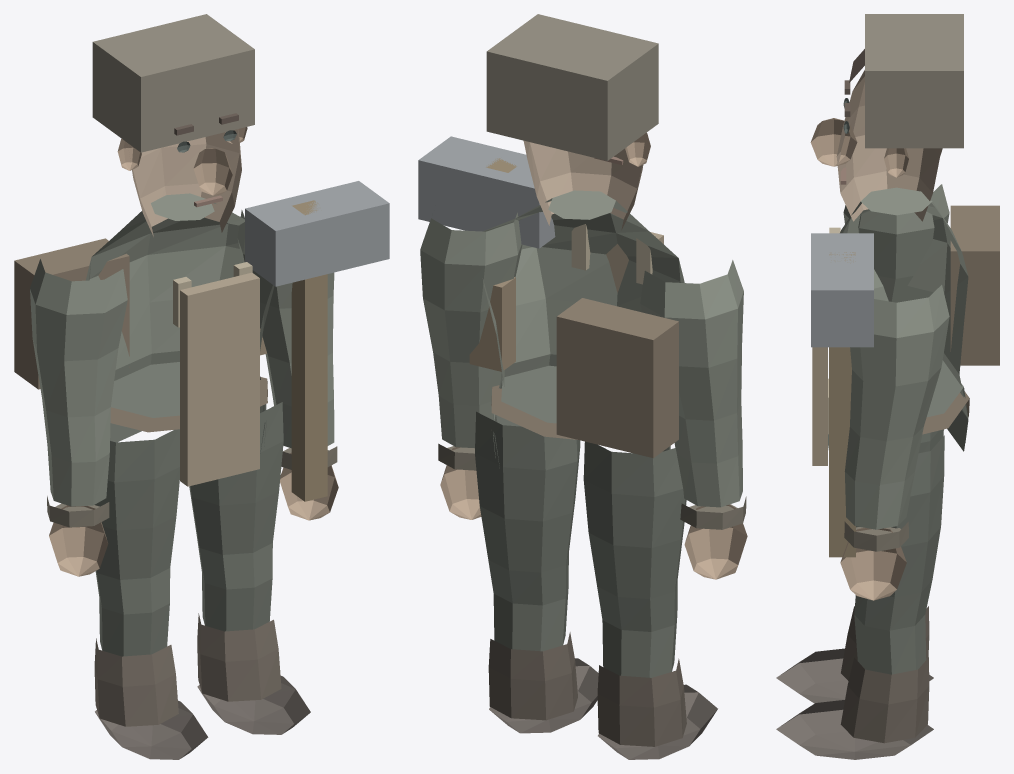
File: medieval_builder_1000_2.glb
The picture shows the model from 3 angles, left to right: view 1: azimuth 30°, elevation 25°; view 2: azimuth 150°, elevation 25°; view 3: azimuth 270°, elevation 25°; orthographic projection. The views are drawn at different scales.
Parts seen in each view (by area): view 1: head_10, leftArm_0, body_7, leftLeg_0, body_0, rightLeg_0, rightArm_4, rightArm_3, rightLeg_1, leftLeg_1, head_0, rightArm_0 (+9 smaller); view 2: head_10, leftLeg_0, rightLeg_0, body_8, leftArm_0, body_0, rightArm_0, rightArm_4, leftLeg_1, rightLeg_1, head_0, body_9 (+12 smaller); view 3: rightArm_0, head_10, rightLeg_0, rightArm_4, body_8, body_0, rightLeg_1, head_0, leftArm_0, rightArm_3, rightLeg_2, rightArm_2 (+8 smaller).
Boxes of the visible parts, <box> form: head_10: <box>92,14,254,152</box>; leftArm_0: <box>30,259,127,506</box>; body_7: <box>180,272,259,486</box>; leftLeg_0: <box>94,429,179,656</box>; body_0: <box>85,193,274,446</box>; rightLeg_0: <box>189,402,283,631</box>; rightArm_4: <box>245,181,389,286</box>; rightArm_3: <box>291,200,327,501</box>; rightLeg_1: <box>197,613,281,701</box>; leftLeg_1: <box>94,638,178,726</box>; head_0: <box>130,129,241,236</box>; rightArm_0: <box>237,210,334,448</box>; head_10: <box>486,14,658,160</box>; leftLeg_0: <box>583,441,686,677</box>; rightLeg_0: <box>475,411,580,651</box>; body_8: <box>556,298,678,458</box>; leftArm_0: <box>640,260,743,507</box>; body_0: <box>482,190,684,457</box>; rightArm_0: <box>420,212,522,448</box>; rightArm_4: <box>418,136,555,248</box>; leftLeg_1: <box>597,658,686,746</box>; rightLeg_1: <box>488,632,577,720</box>; head_0: <box>523,140,643,230</box>; body_9: <box>469,277,515,371</box>; rightArm_0: <box>844,285,949,529</box>; head_10: <box>865,14,963,148</box>; rightLeg_0: <box>854,435,944,674</box>; rightArm_4: <box>811,233,873,347</box>; body_8: <box>950,205,999,365</box>; body_0: <box>840,187,968,442</box>; rightLeg_1: <box>840,657,929,743</box>; head_0: <box>836,70,942,221</box>; leftArm_0: <box>843,184,949,302</box>; rightArm_3: <box>829,252,855,557</box>; rightLeg_2: <box>776,700,933,759</box>; rightArm_2: <box>840,527,906,600</box>.
Bounding box in the file's own units: 0.822 × 1.68 × 0.498.
